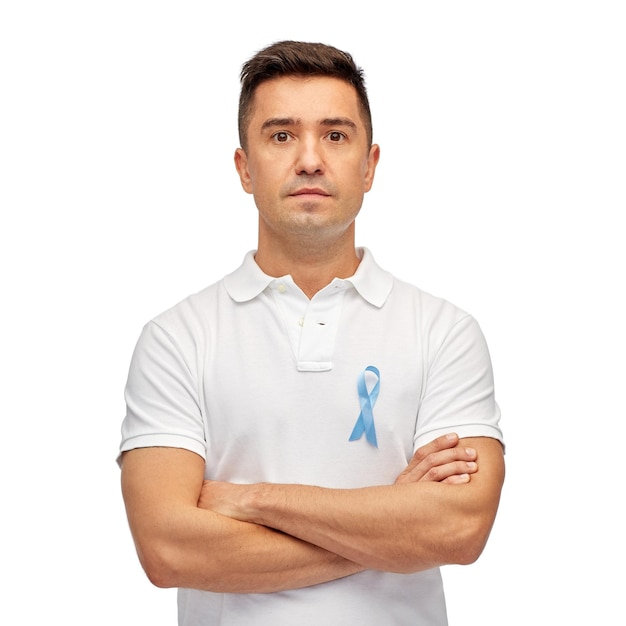young: (229, 35, 380, 261)
